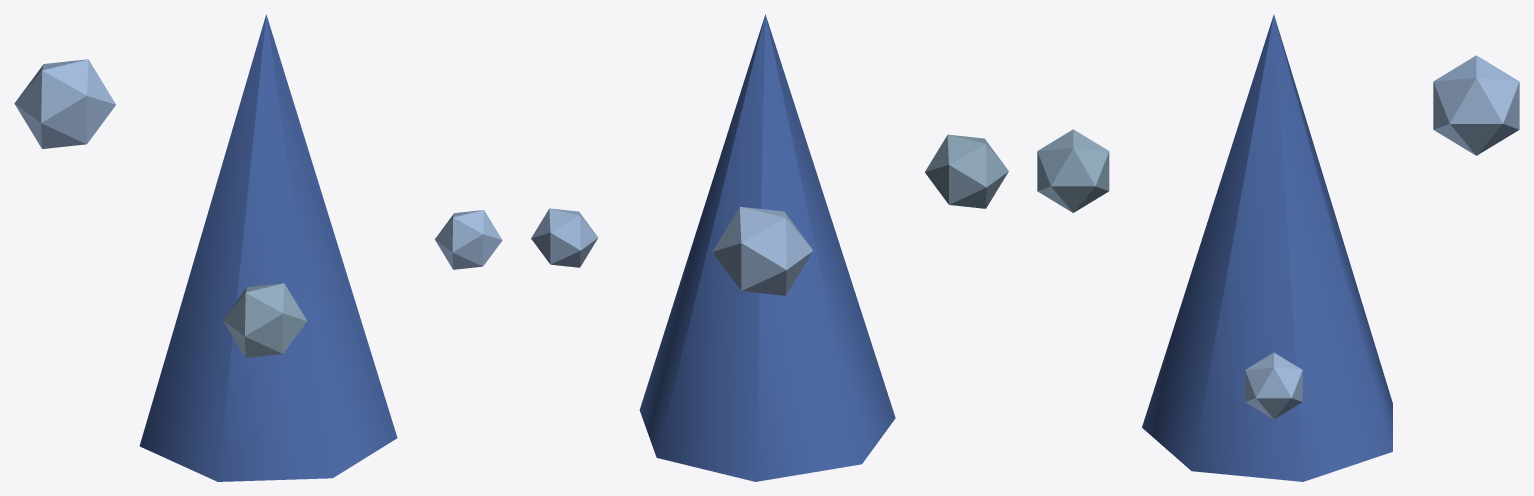
The model's file is landmark.glb.
3 views of the same model, side by side, from view 1: azimuth 30°, elevation 25°; view 2: azimuth 150°, elevation 25°; view 3: azimuth 270°, elevation 25° (orthographic).
Parts seen in each view (by area): view 1: landmark_core_6, landmark_orbit_2, landmark_orbit_1, landmark_orbit_0; view 2: landmark_core_6, landmark_orbit_2, landmark_orbit_1, landmark_orbit_0; view 3: landmark_core_6, landmark_orbit_2, landmark_orbit_1, landmark_orbit_0.
Boxes of the visible parts, x1,y1,x2,y2 form: landmark_core_6: (139,14,397,481); landmark_orbit_2: (14,59,115,148); landmark_orbit_1: (222,283,307,357); landmark_orbit_0: (435,210,502,269); landmark_core_6: (639,14,895,481); landmark_orbit_2: (712,206,813,295); landmark_orbit_1: (925,134,1008,208); landmark_orbit_0: (531,208,598,267); landmark_core_6: (1142,14,1392,481); landmark_orbit_2: (1433,55,1519,155); landmark_orbit_1: (1037,129,1109,212); landmark_orbit_0: (1245,352,1302,419).
Size of what is drawn, in the model's own units: 3.96 by 4.32 by 4.57.
